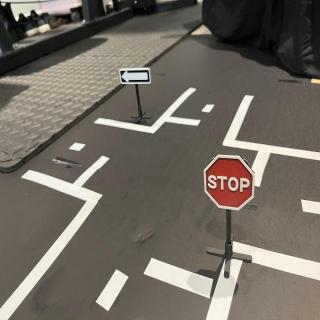sign_oneway_left: (120, 67, 154, 86)
sign_stop: (205, 152, 258, 214)
